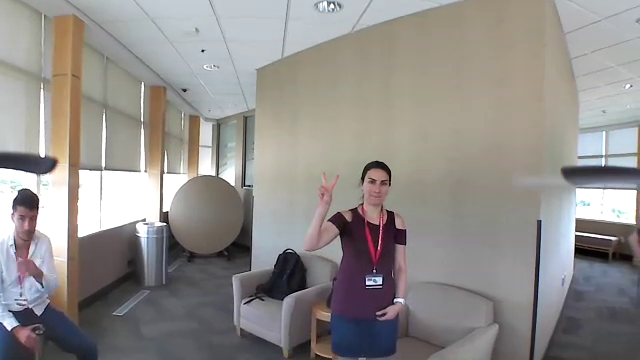peace: (309, 168, 345, 207)
